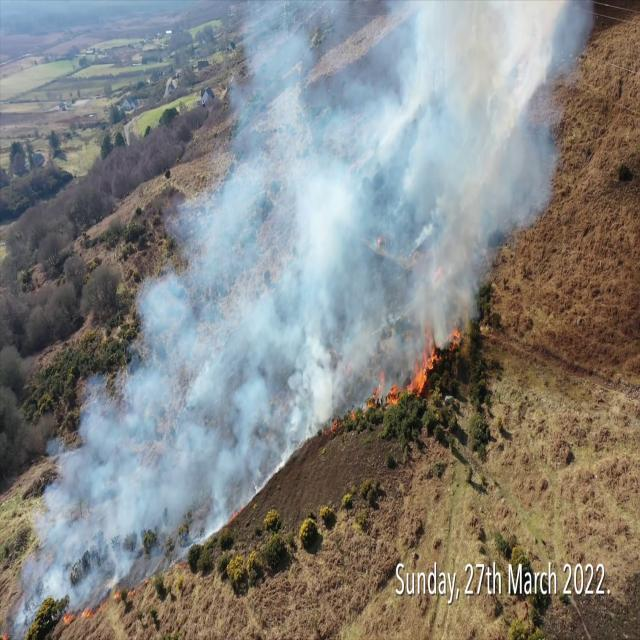Fire: (408, 329, 441, 402), (386, 385, 403, 411)
Smoke: (242, 2, 596, 335), (131, 164, 339, 467), (13, 371, 220, 603)
